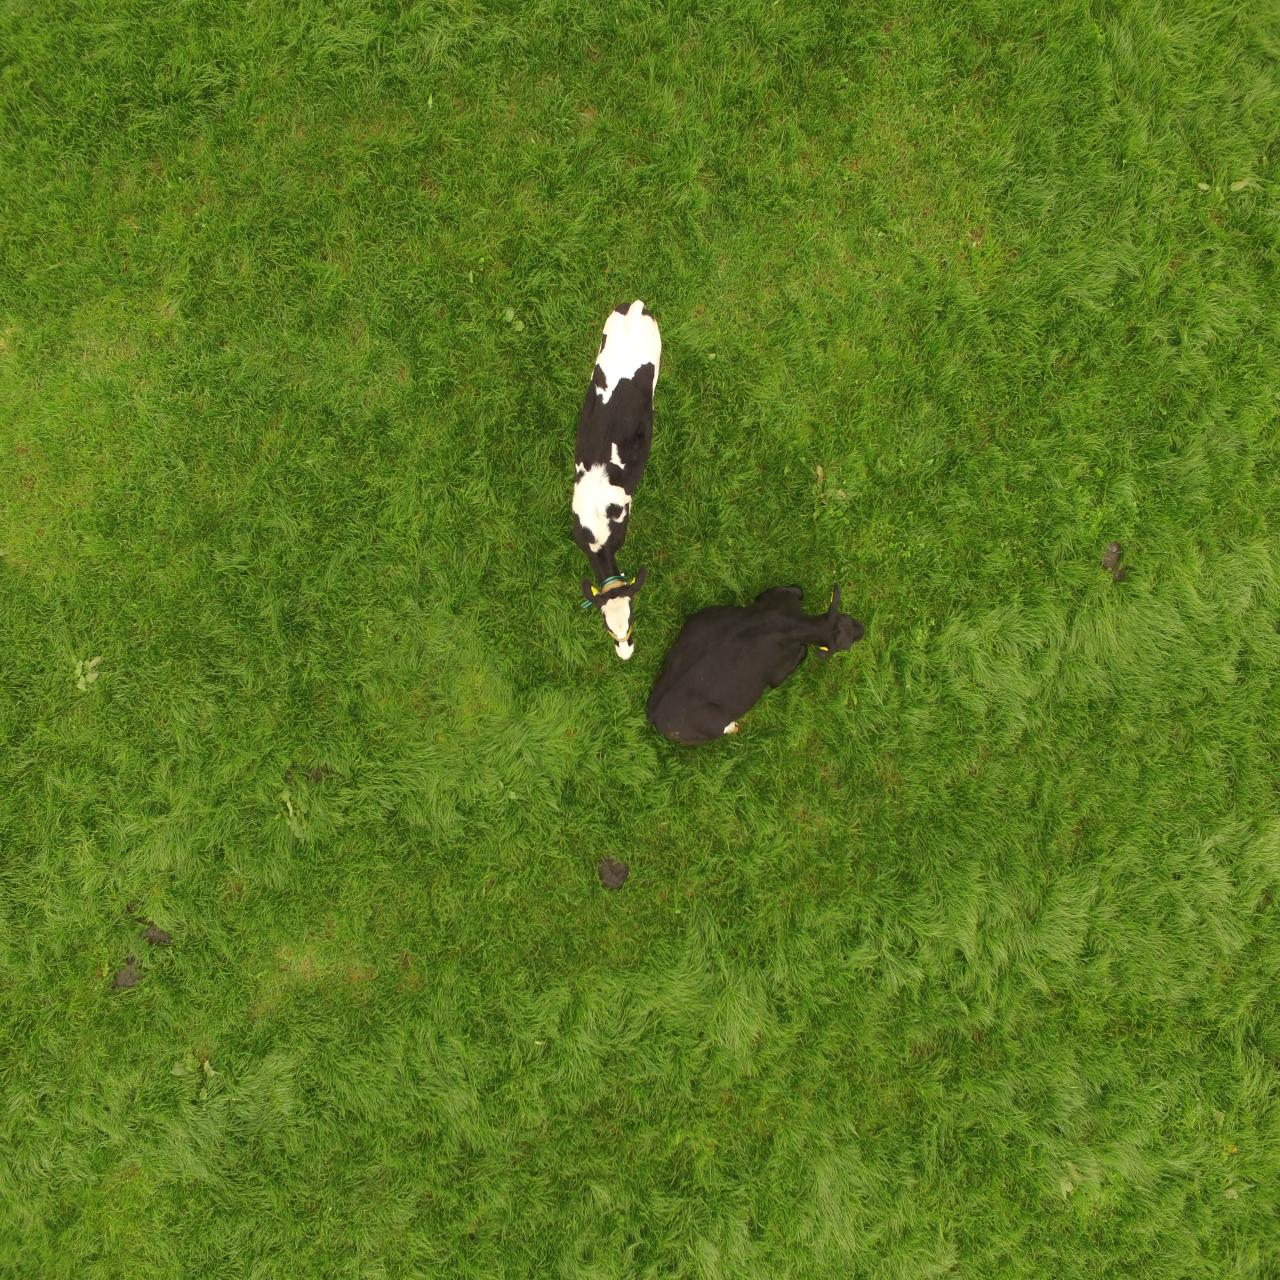cow: (540, 291, 688, 670), (636, 550, 869, 771)
